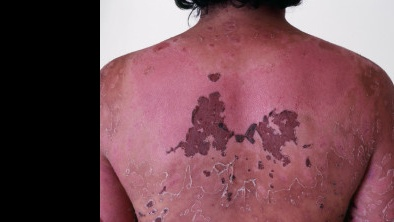SJS-TEN: (97, 1, 394, 222)
